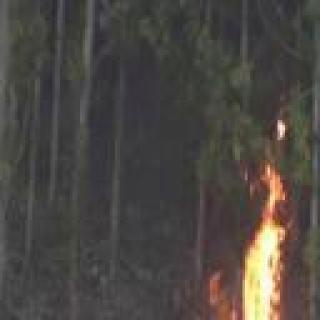fire: (172, 182, 316, 320)
